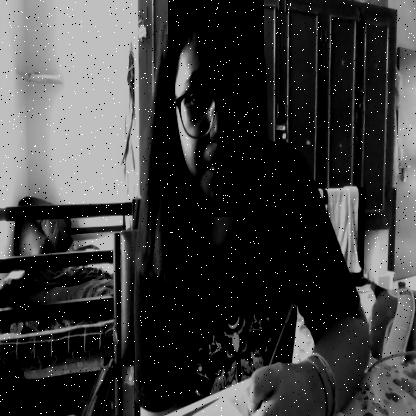Normal: (167, 0, 264, 217)
